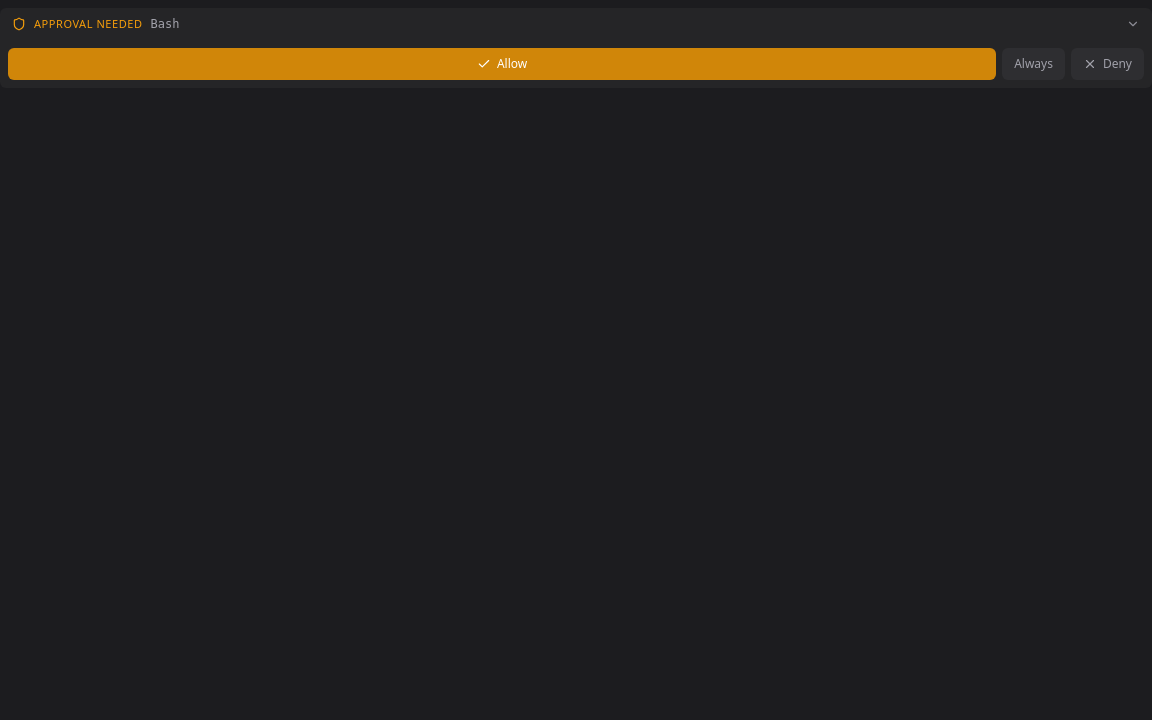
Test: ApprovalCard (benign) › falls back to a raw pre block when args_preview is not a JSON object
The image size is (1152, 720).
Click the button "Approval needed Bash" at (88, 24), box [0, 8, 1151, 40]
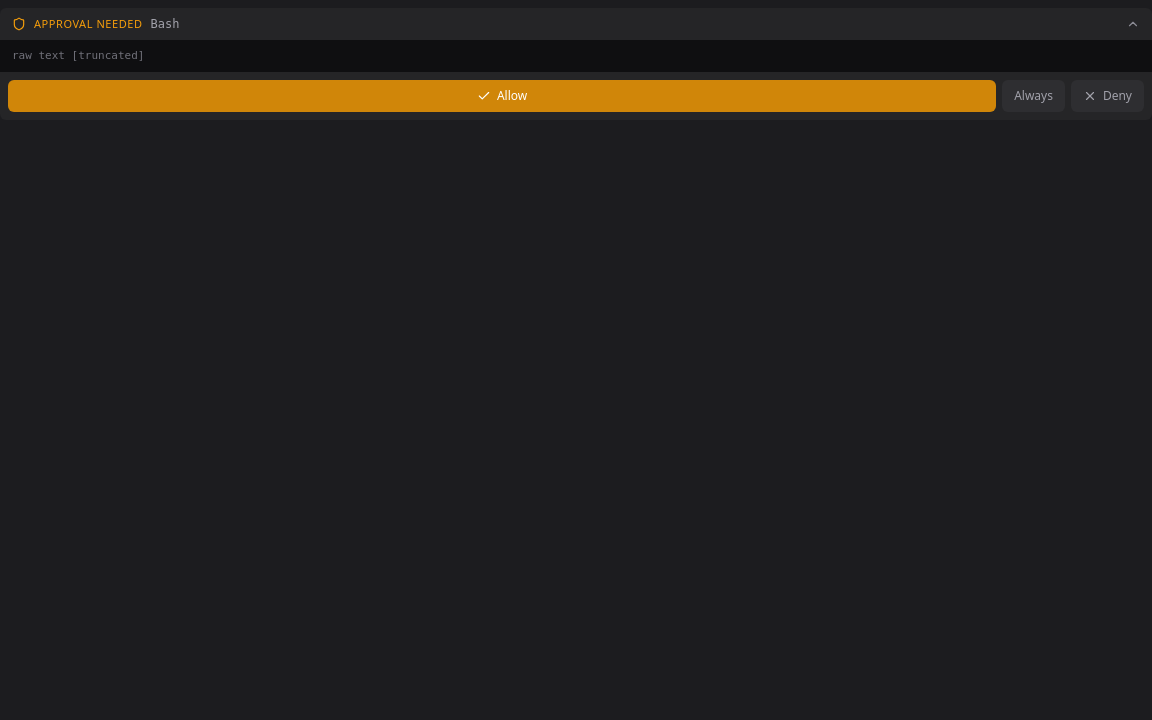
Result: the text "raw text [truncated]" is shown at [0, 40, 1151, 72]
